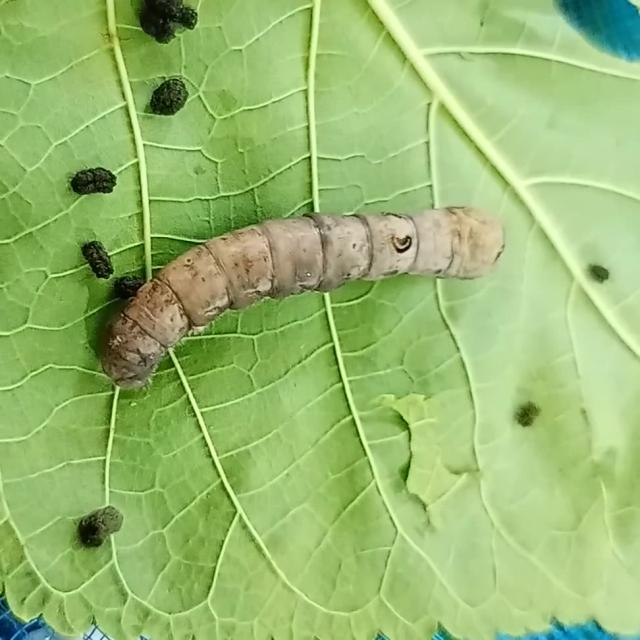Grasserie: (86, 168, 526, 388)
